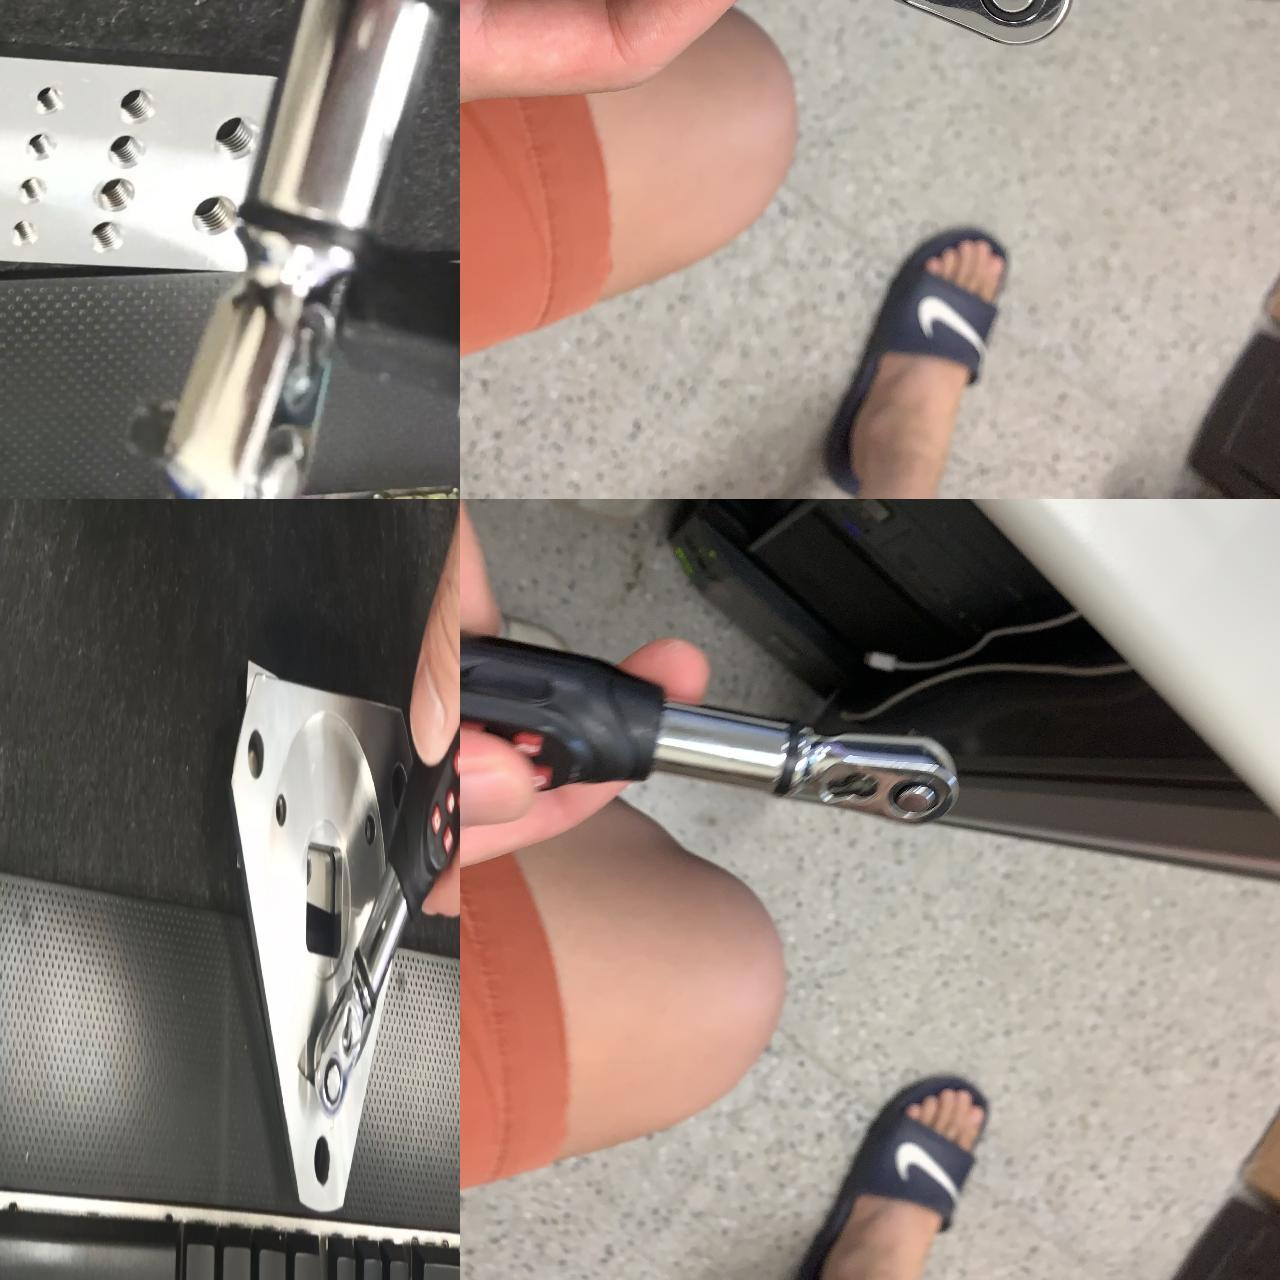Tool: (797, 731, 959, 836), (840, 0, 1080, 48), (313, 966, 367, 1125)
